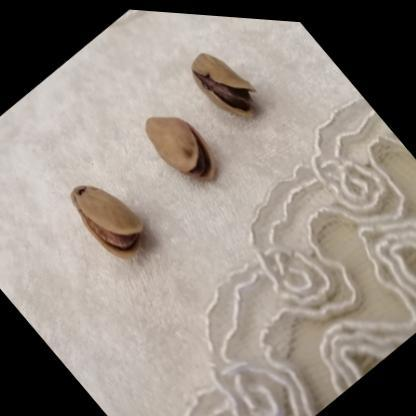pistachio: (71, 185, 151, 255), (140, 117, 221, 185), (191, 51, 262, 114)
